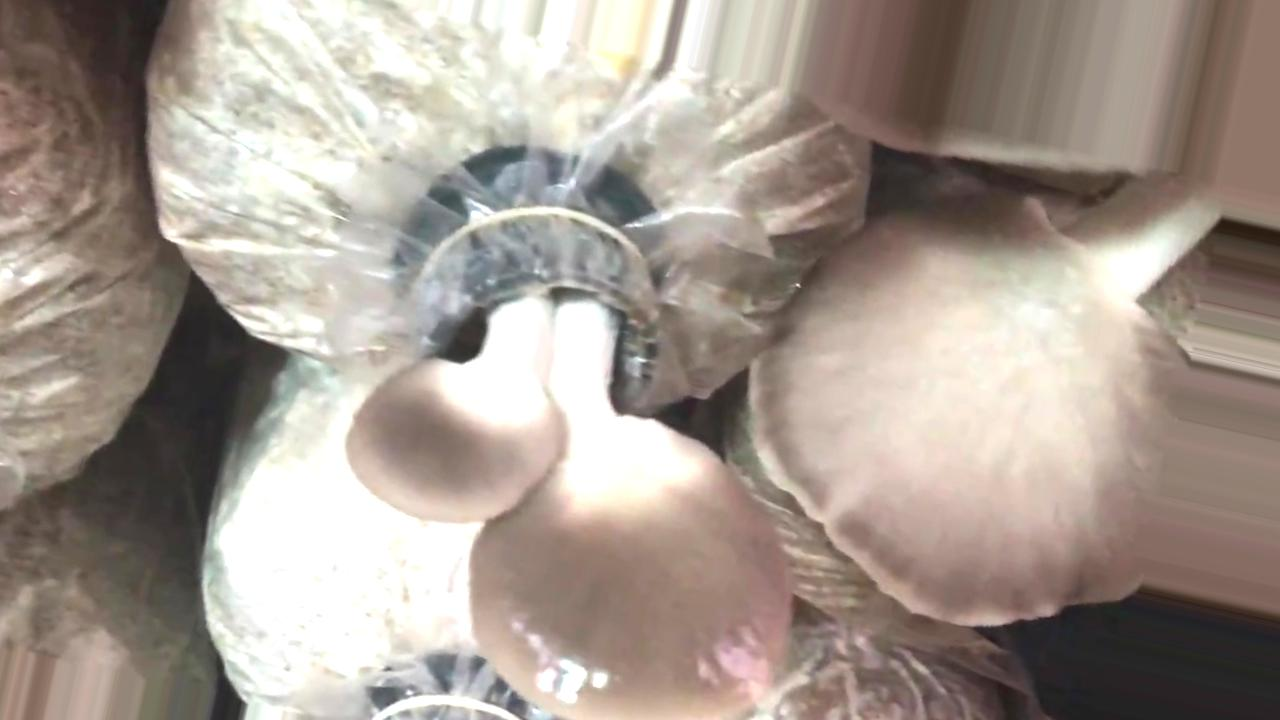nam: (753, 171, 1280, 629), (346, 185, 791, 720)
